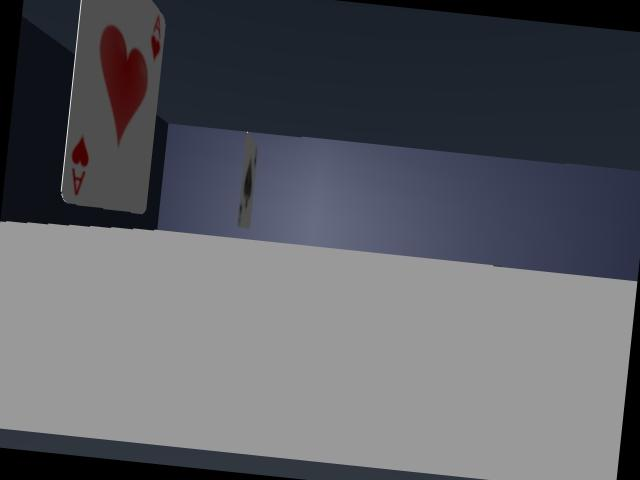heart: (61, 0, 164, 213)
spade: (237, 133, 257, 228)
